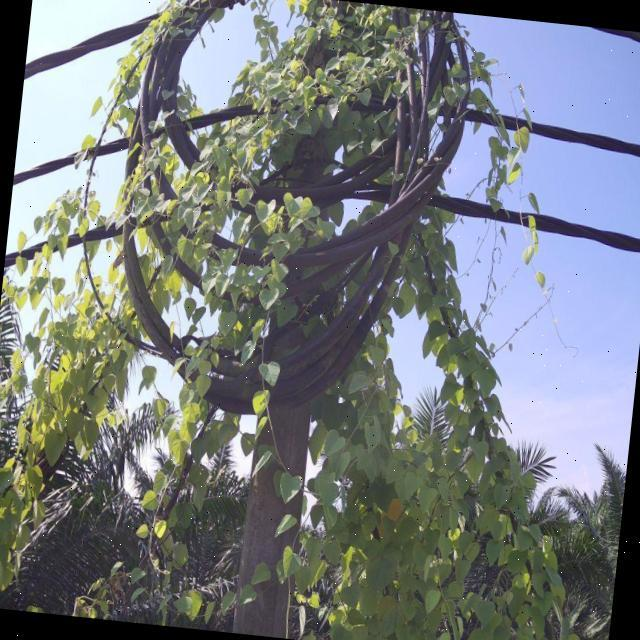critical vegetation: (23, 0, 578, 616)
